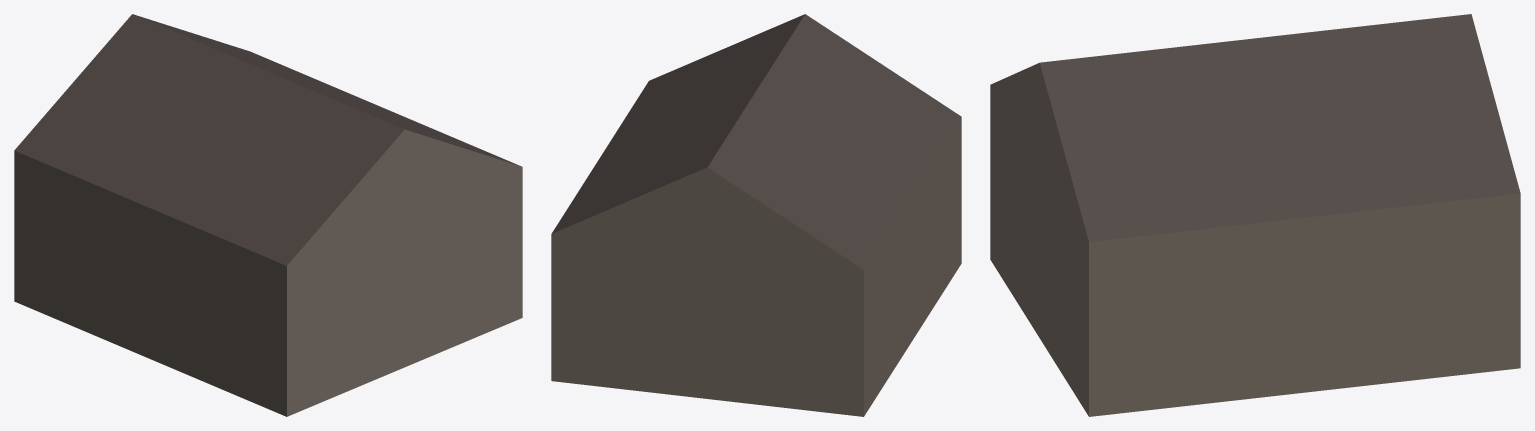
3 views of the same model, side by side, from view 1: azimuth 30°, elevation 25°; view 2: azimuth 150°, elevation 25°; view 3: azimuth 270°, elevation 25° (orthographic). The views are drawn at different scales.
Parts seen in each view (by area): view 1: HP-w1376988838; view 2: HP-w1376988838; view 3: HP-w1376988838.
Part boxes in pixels (x1,y1,x2,y2): HP-w1376988838: (14,14,522,416); HP-w1376988838: (551,14,961,416); HP-w1376988838: (990,14,1520,416).
Size of the model in its own units: 15.17 by 9.46 by 16.5.
